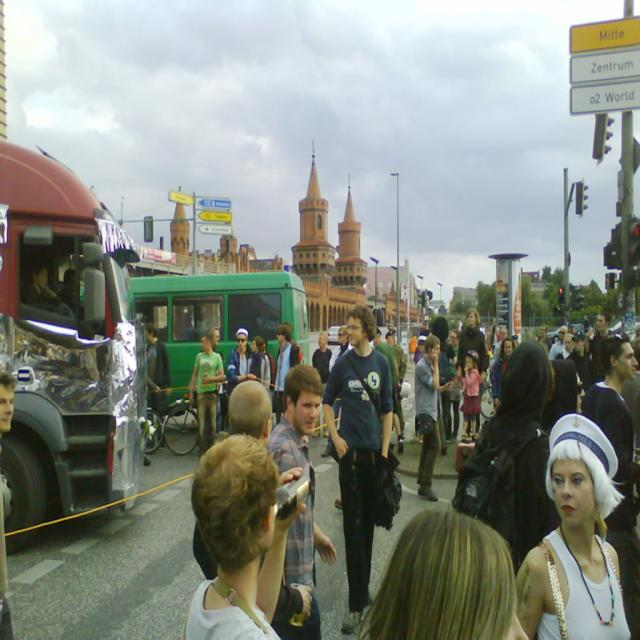car: (0, 139, 150, 556)
